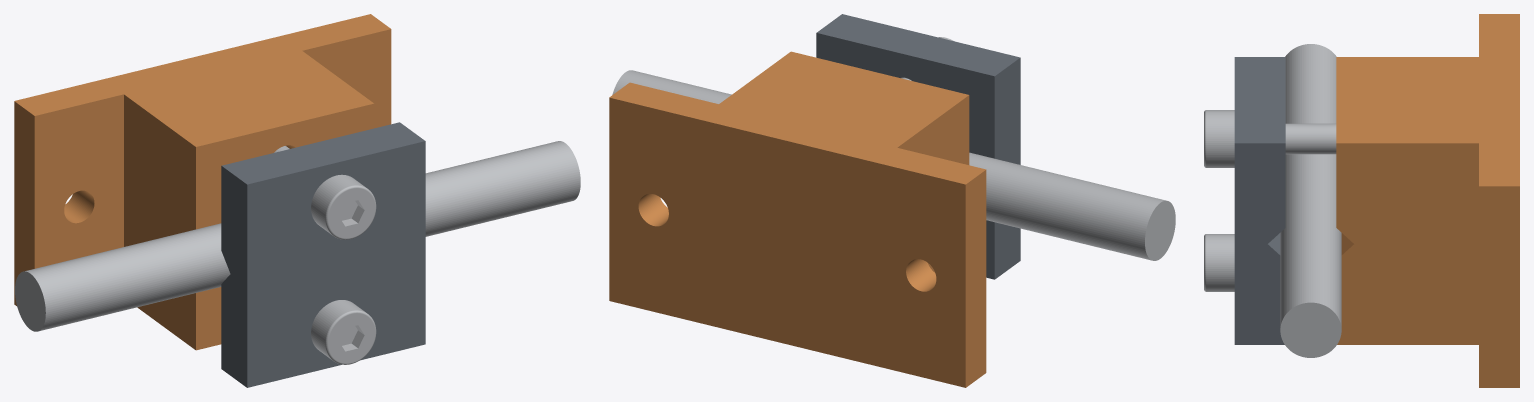
The picture shows the model from 3 angles, left to right: view 1: azimuth 30°, elevation 25°; view 2: azimuth 150°, elevation 25°; view 3: azimuth 270°, elevation 25°; orthographic projection.
Parts seen in each view (by area): view 1: base, bride, cable, vis_1, vis_2; view 2: base, bride, cable; view 3: base, cable, bride, vis_1, vis_2.
Part boxes in pixels (<box>): base: <box>14,14,391,350</box>; bride: <box>221,122,425,387</box>; cable: <box>15,141,580,331</box>; vis_1: <box>274,146,376,239</box>; vis_2: <box>311,300,376,364</box>; base: <box>609,51,986,387</box>; bride: <box>816,14,1020,279</box>; cable: <box>612,70,1175,260</box>; base: <box>1336,14,1519,387</box>; cable: <box>1280,44,1341,357</box>; bride: <box>1234,57,1285,344</box>; vis_1: <box>1204,110,1336,167</box>; vis_2: <box>1204,234,1234,291</box>.
Size of the model in its own units: 60 by 21.8 by 30.95.
